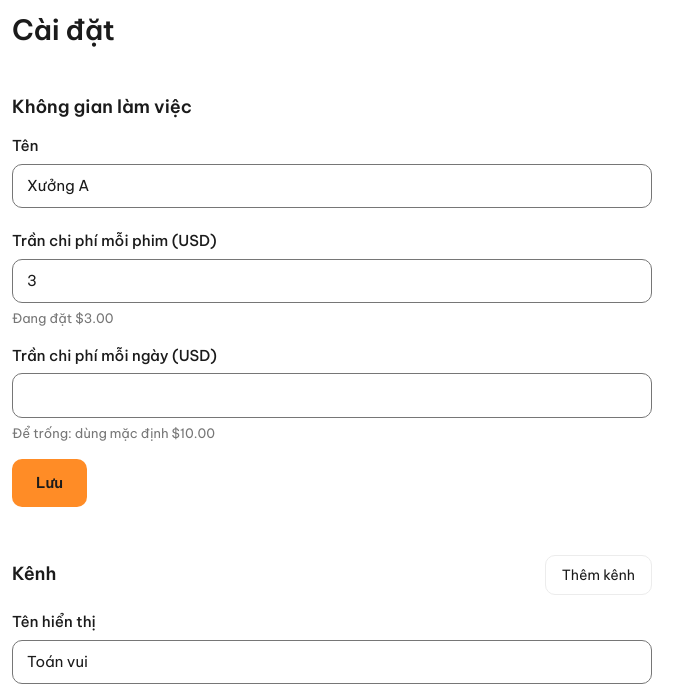
settings › a failed refetch keeps the page and the typed edit
The width and height of the screenshot is (674, 695).
Replace the text in the field labelled "Tên" with "Xưởng B" at x=332, y=186, box [12,164,652,208]
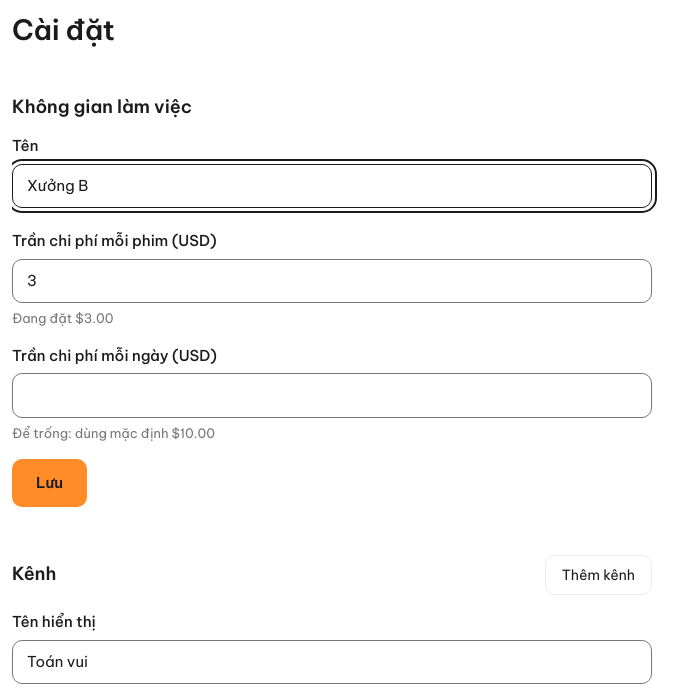
Click the button "Lưu".
click(50, 483)  # box [12,459,87,507]
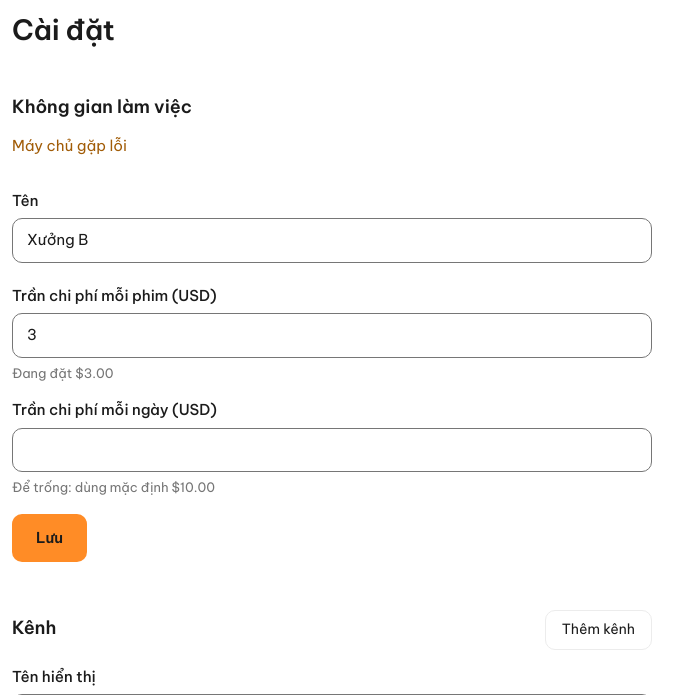
Expected: the message "Máy chủ gặp lỗi" is shown, [12,136,127,155]
